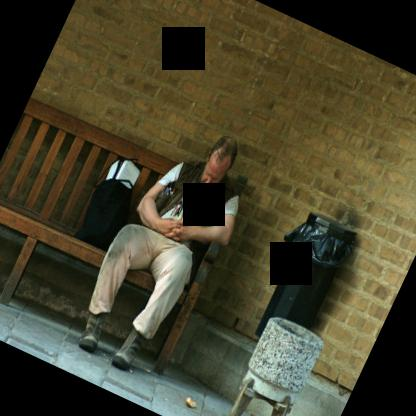backpack: (76, 177, 132, 251)
handbag: (72, 180, 132, 252)
